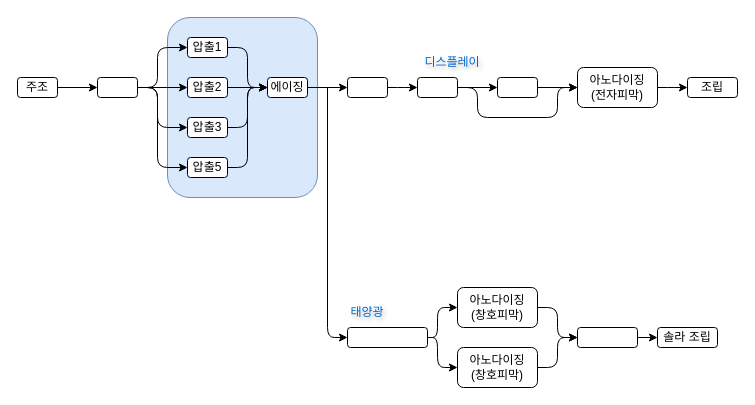
Image size: 755x405. Some labels were removed from this diagram. The shapes that lost their labels are listed below. From the top down, each one's centre as x and y in pixels, then its label:
At (x=117, y=87): "호모".
At (x=367, y=87): "절단".
At (x=437, y=87): "프레스".
At (x=517, y=87): "CNC".
At (x=387, y=337): "샌드블라스트".
At (x=607, y=337): "솔라 절단".
